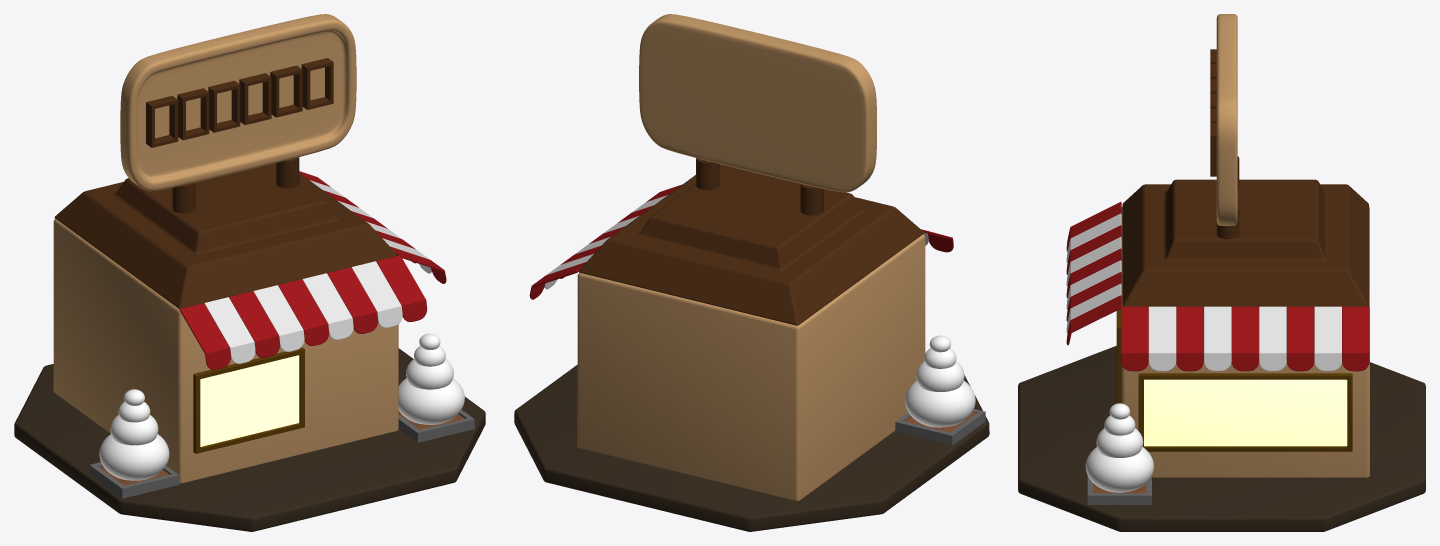
The model's file is coffee_shop_12.glb.
3 renders of one model, left to right at view 1: azimuth 30°, elevation 25°; view 2: azimuth 150°, elevation 25°; view 3: azimuth 270°, elevation 25°, orthographic. The views are drawn at different scales.
Visible parts, largest first — view 1: Cube.169, Cube.170, Cube.211, Plane.038, Plane.039, Cube.172, Text.008, Sphere.101, Sphere.095, Plane.040, Cube.245, Sphere.102 (+4 smaller); view 2: Cube.169, Plane.038, Cube.170, Cube.211, Sphere.101, Plane.040, Cube.245, Sphere.102, Cylinder.010, Cylinder.011; view 3: Cube.211, Cube.170, Cube.171, Plane.040, Cube.169, Plane.039, Plane.038, Sphere.095, Sphere.096, Cube.242, Text.008, Sphere.097 (+1 smaller).
Part boxes in pixels (x1,y1,x2,y2): Cube.169: (53, 218, 398, 483); Cube.170: (54, 163, 397, 309); Cube.211: (14, 348, 485, 531); Plane.038: (120, 14, 356, 191); Plane.039: (179, 255, 427, 369); Cube.172: (193, 347, 304, 453); Text.008: (146, 58, 333, 147); Sphere.101: (99, 434, 169, 480); Sphere.095: (398, 378, 464, 424); Plane.040: (299, 171, 446, 283); Cube.245: (89, 462, 179, 498); Sphere.102: (110, 414, 158, 445); Cube.169: (577, 234, 925, 500); Plane.038: (639, 14, 876, 192); Cube.170: (578, 164, 923, 325); Cube.211: (514, 364, 989, 531); Sphere.101: (905, 380, 975, 427); Plane.040: (529, 184, 681, 299); Cube.245: (895, 409, 985, 445); Sphere.102: (916, 361, 964, 391); Cylinder.010: (800, 183, 823, 215); Cylinder.011: (696, 158, 719, 190); Cube.211: (1018, 346, 1425, 531); Cube.170: (1122, 179, 1368, 306); Cube.171: (1138, 373, 1352, 451); Plane.040: (1121, 306, 1369, 371); Cube.169: (1121, 206, 1369, 477); Plane.039: (1066, 202, 1121, 345); Plane.038: (1216, 14, 1237, 225); Sphere.095: (1085, 447, 1153, 492); Sphere.096: (1096, 428, 1143, 457); Cube.242: (1087, 476, 1151, 505); Text.008: (1210, 49, 1216, 176); Sphere.097: (1104, 415, 1135, 435).
Size of the model in its own units: 6.79 by 6.99 by 6.7.
